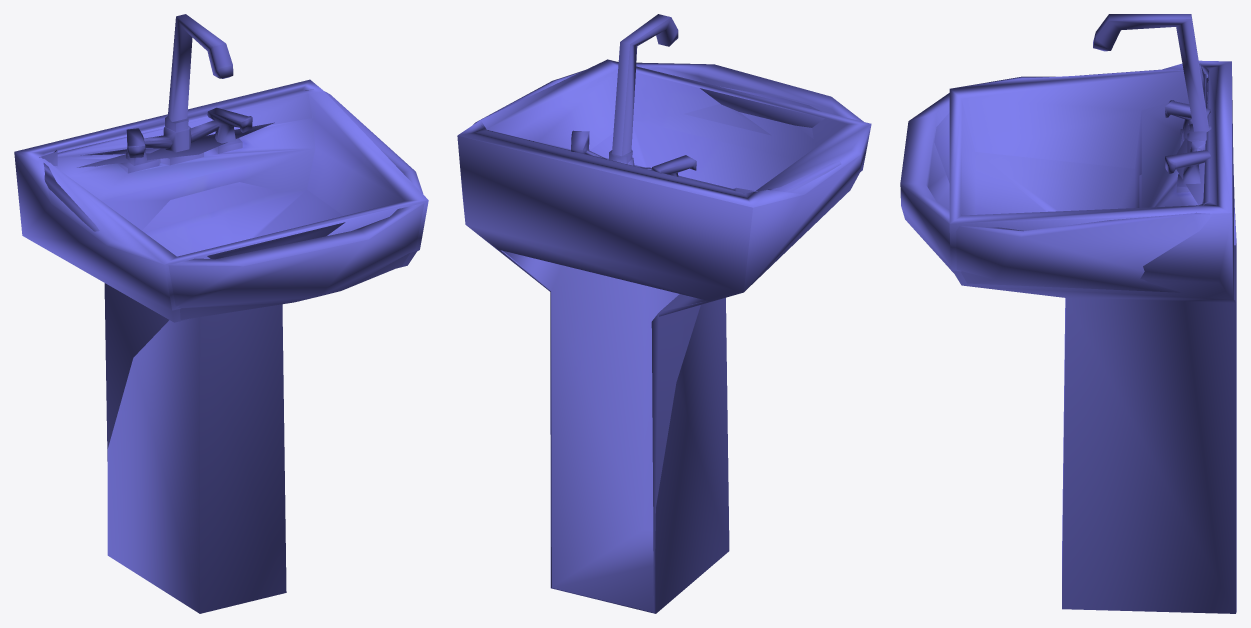
File: model.progressive.glb
3 renders of one model, left to right at view 1: azimuth 30°, elevation 25°; view 2: azimuth 150°, elevation 25°; view 3: azimuth 270°, elevation 25°, orthographic. The views are drawn at different scales.
Visible parts, largest first — view 1: mesh_input; view 2: mesh_input; view 3: mesh_input.
Boxes of the visible parts, x1,y1,x2,y2 form: mesh_input: [14, 14, 428, 613]; mesh_input: [457, 14, 871, 613]; mesh_input: [900, 14, 1236, 613].
Bounding box in the file's own units: 1.1 × 1.85 × 0.9883.
1 material, 1 textured.
